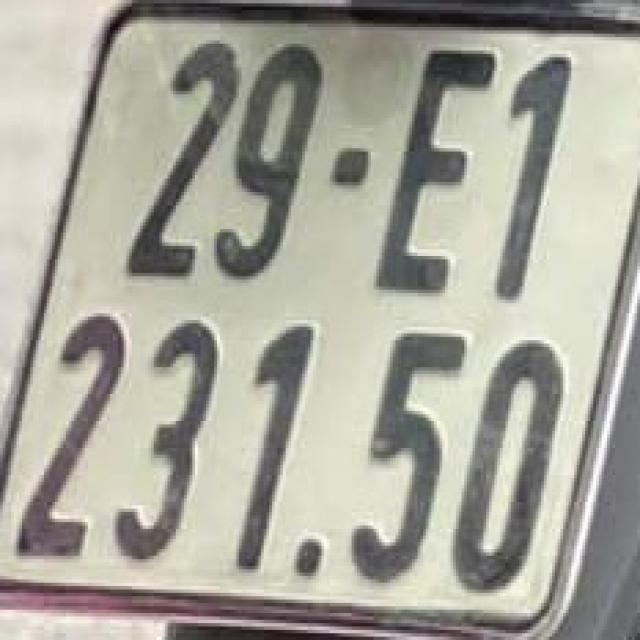0: (450, 330, 566, 596)
1: (230, 313, 318, 573), (492, 41, 576, 303)
2: (118, 30, 234, 283), (13, 307, 124, 559)
3: (110, 310, 220, 562)
5: (349, 323, 461, 590)
7: (230, 313, 318, 576)
9: (214, 37, 327, 283)
E: (374, 44, 497, 293)
